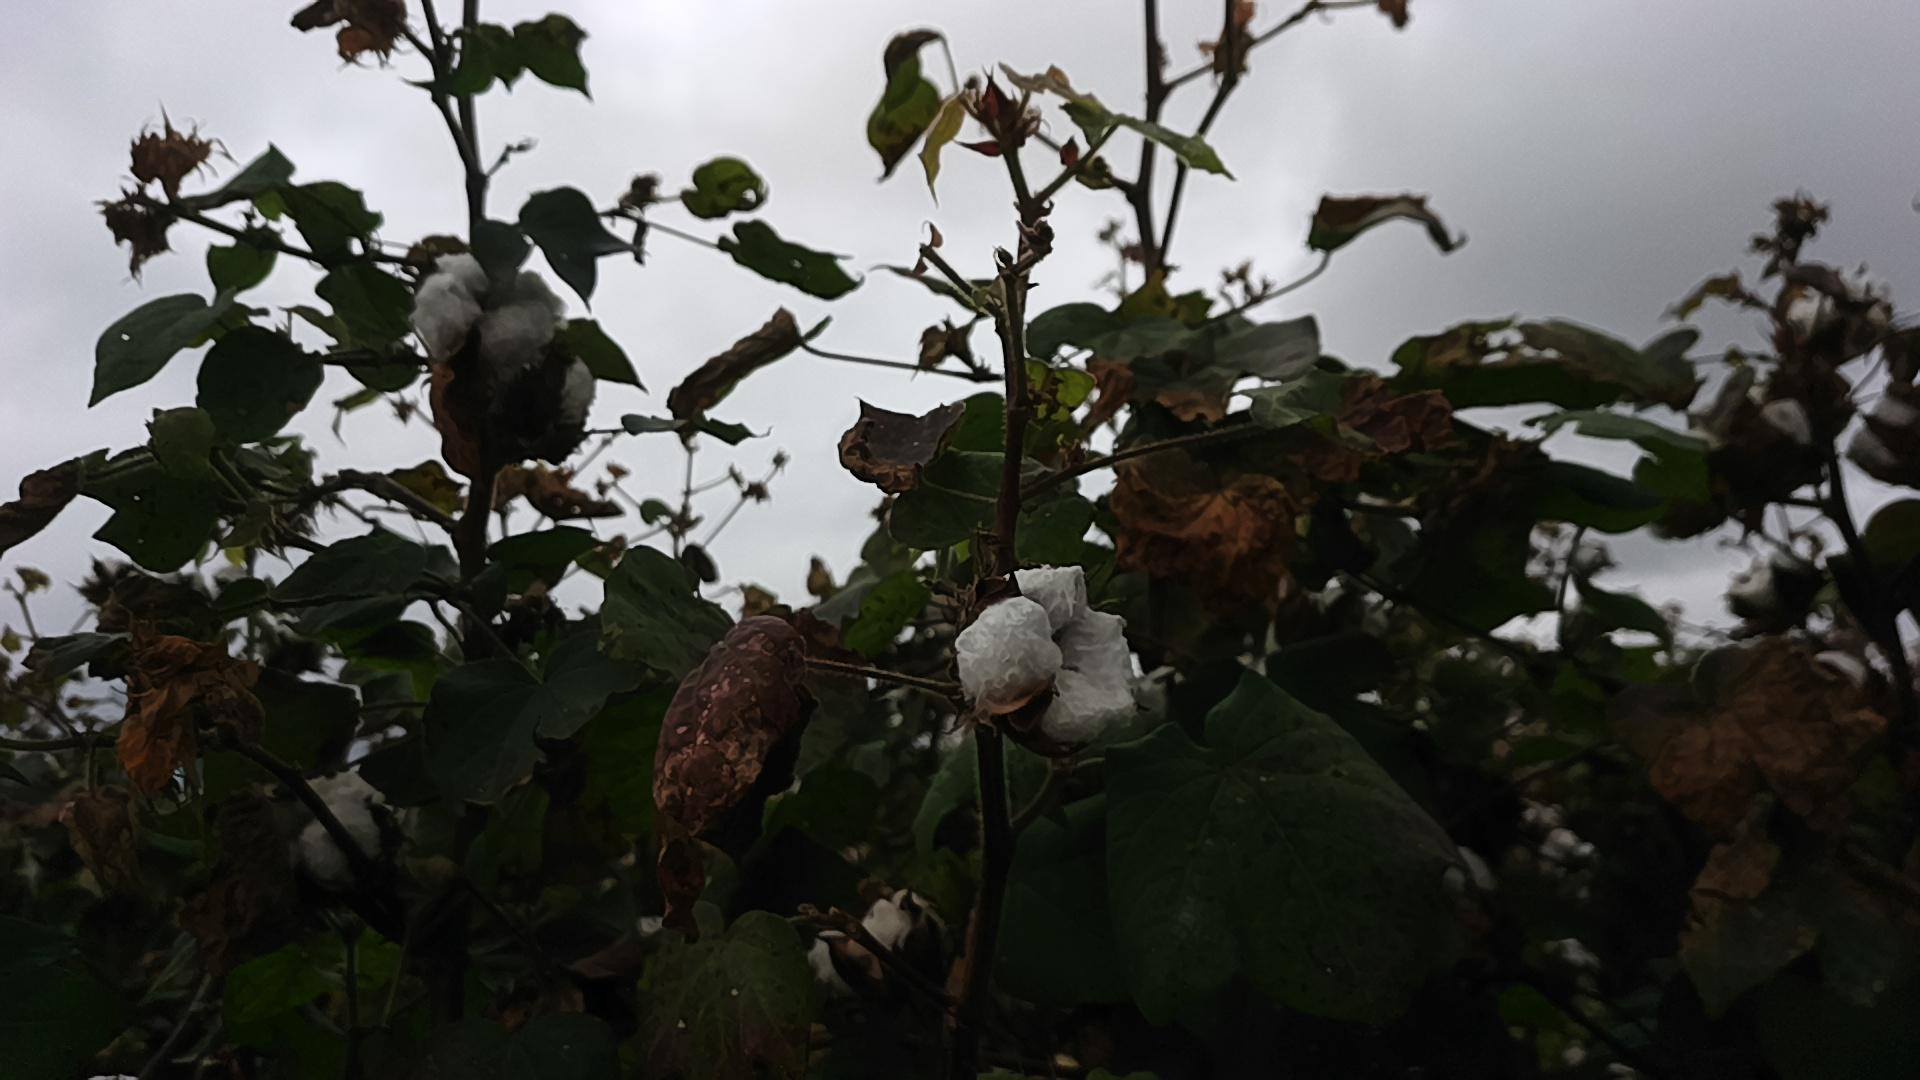cotton_ready: (956, 571, 1143, 733), (264, 767, 398, 881), (802, 887, 938, 997), (415, 253, 558, 349), (1701, 406, 1818, 469), (1850, 385, 1920, 476)
